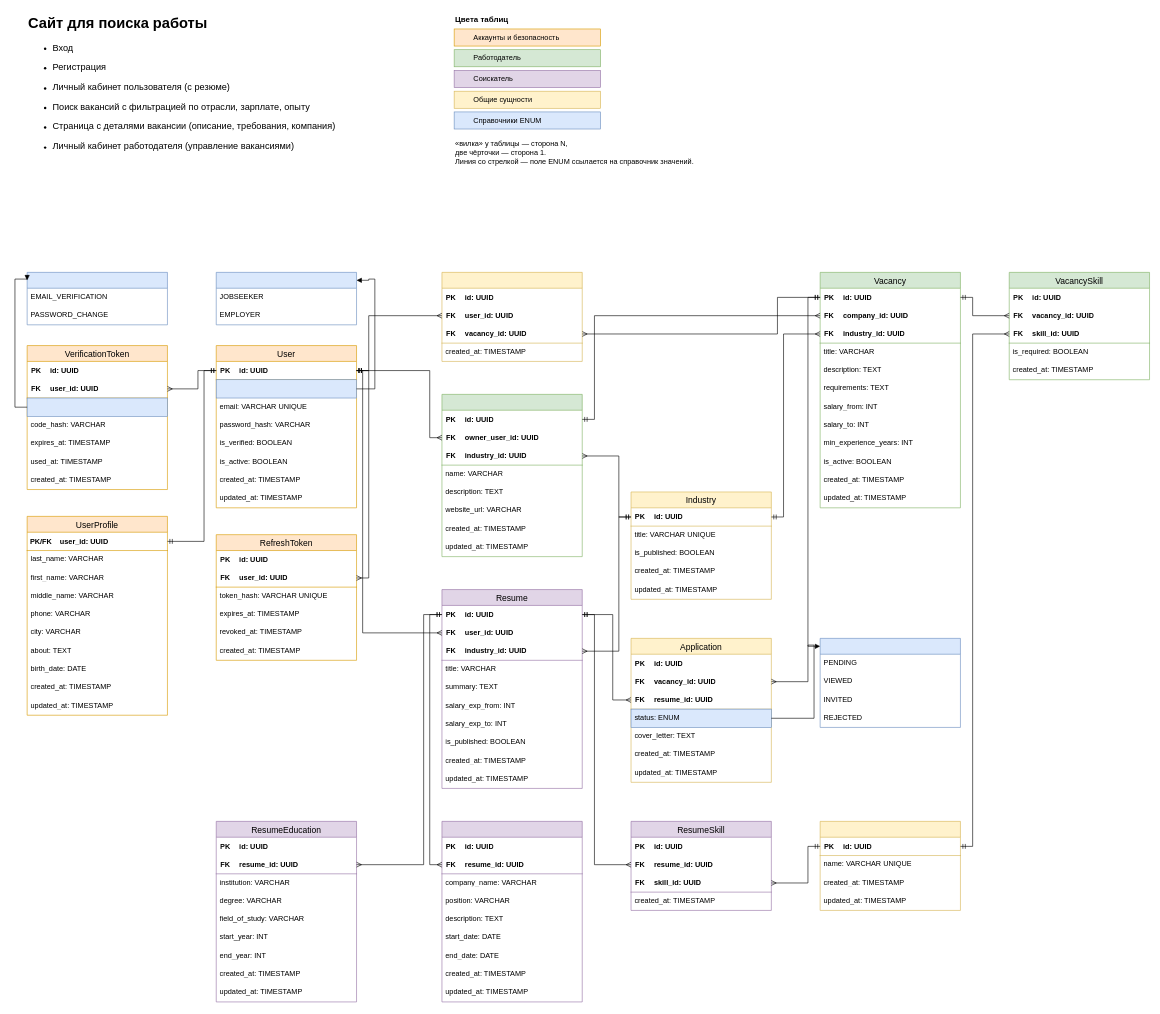
The diagram is 1160 pixels wide and 1014 high, and some of its shapes have lost their labels. Each missing label, with the box of its shape:
ApplicationStatus: (820, 638, 960, 727)
Company: (441, 394, 582, 557)
FavoriteVacancy: (441, 272, 582, 361)
ResumeExperience: (441, 821, 582, 1002)
role: ENUM: (216, 379, 357, 398)
Roles: (216, 272, 357, 325)
Skill: (820, 821, 960, 910)
TokenType: (27, 272, 167, 325)
type: ENUM: (27, 397, 167, 416)
